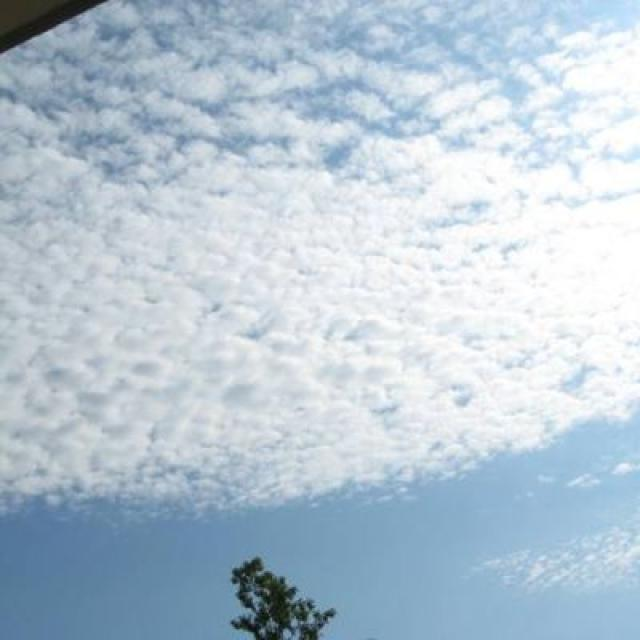Ac: (10, 90, 640, 492)
